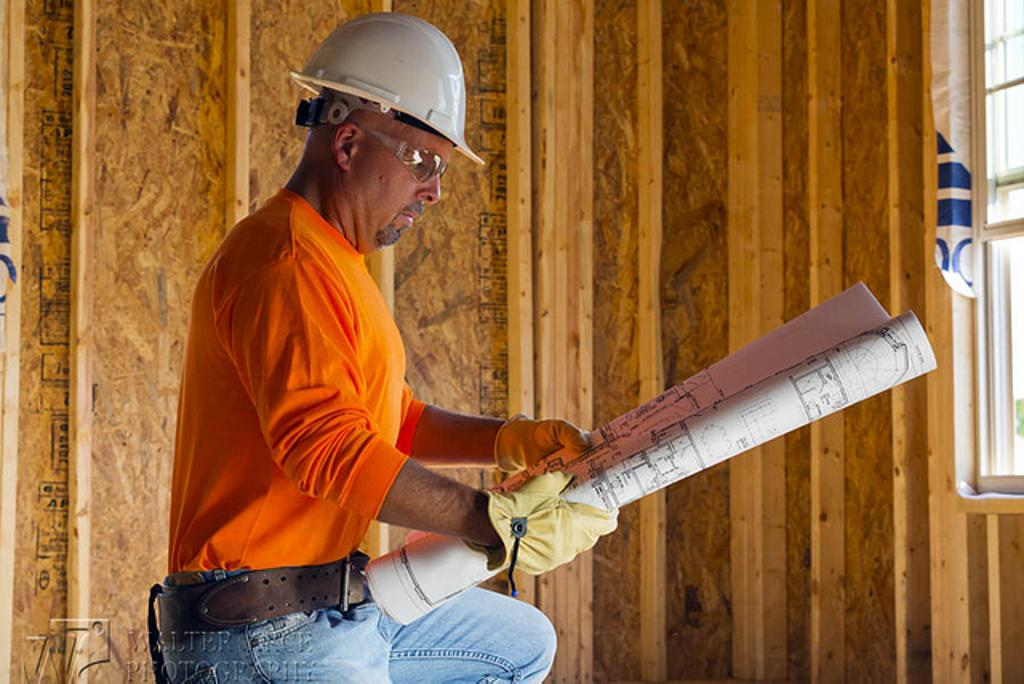face: (342, 68, 450, 242)
